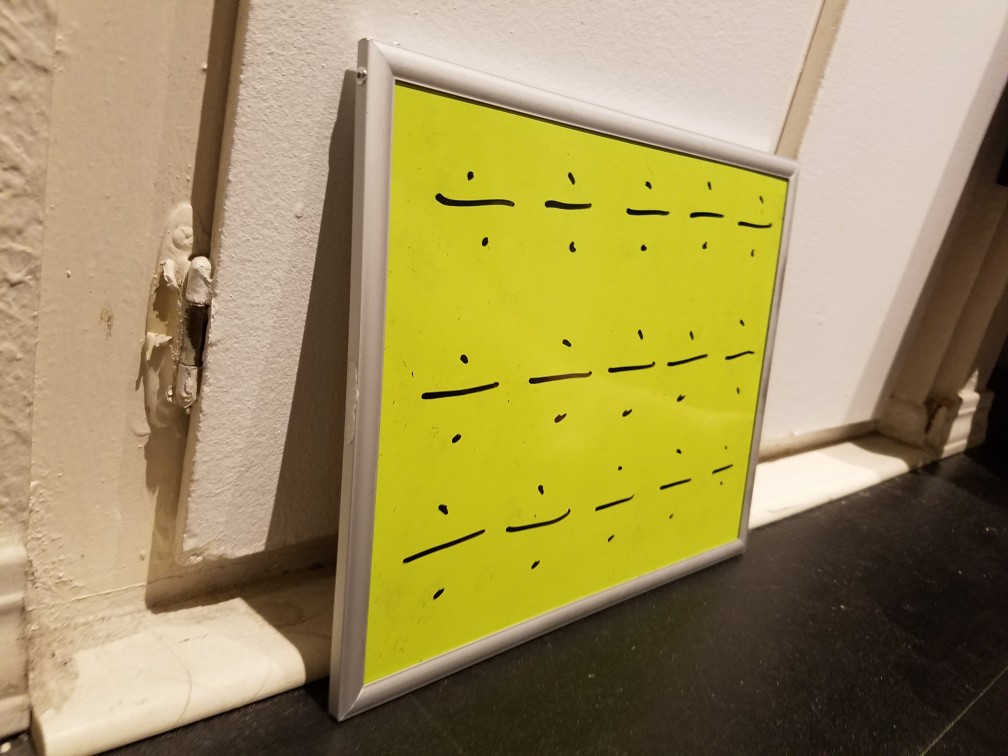div: (404, 486, 487, 616), (406, 335, 500, 448), (422, 154, 520, 260), (512, 311, 591, 436), (499, 460, 575, 585), (599, 312, 660, 434), (533, 156, 601, 260), (588, 446, 642, 562), (660, 316, 720, 420), (617, 171, 679, 265), (657, 435, 694, 541), (687, 168, 730, 259), (734, 177, 776, 269), (720, 309, 758, 398), (701, 438, 739, 497)
